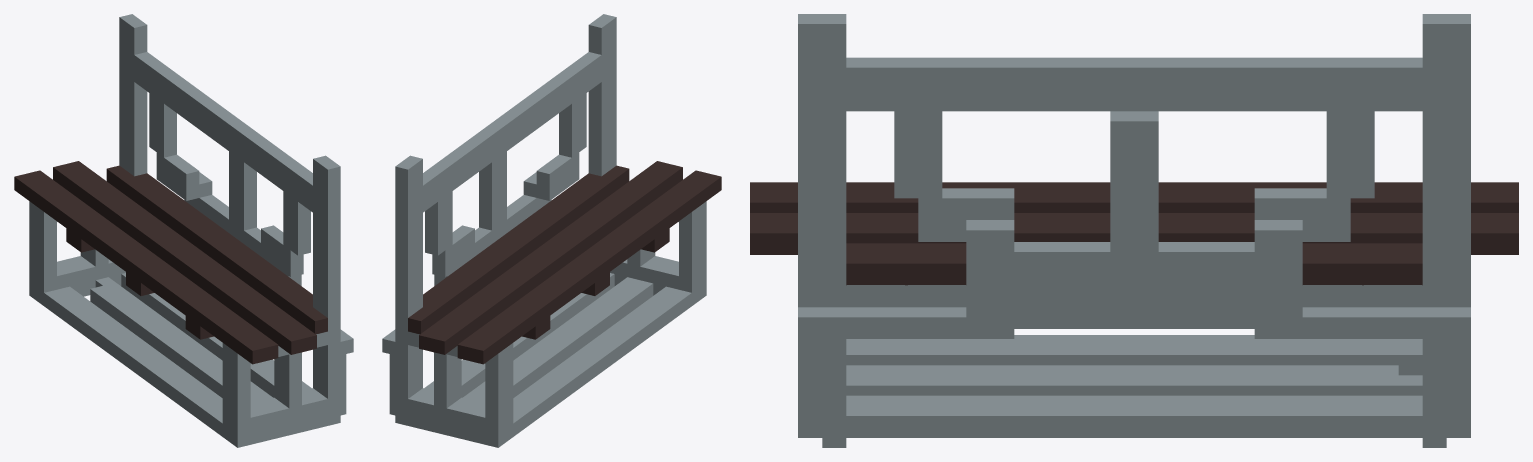
Rendered from lawka.dae.
3 renders of one model, left to right at view 1: azimuth 30°, elevation 25°; view 2: azimuth 150°, elevation 25°; view 3: azimuth 270°, elevation 25°, orthographic. The views are drawn at different scales.
Visible parts, largest first — view 1: Content; view 2: Content; view 3: Content.
Boxes of the visible parts, x1,y1,x2,y2 form: Content: (14,14,353,447); Content: (382,14,721,447); Content: (750,14,1518,447).
Bounding box in the file's own units: 9 × 19 × 32.
1 material, 1 textured.
